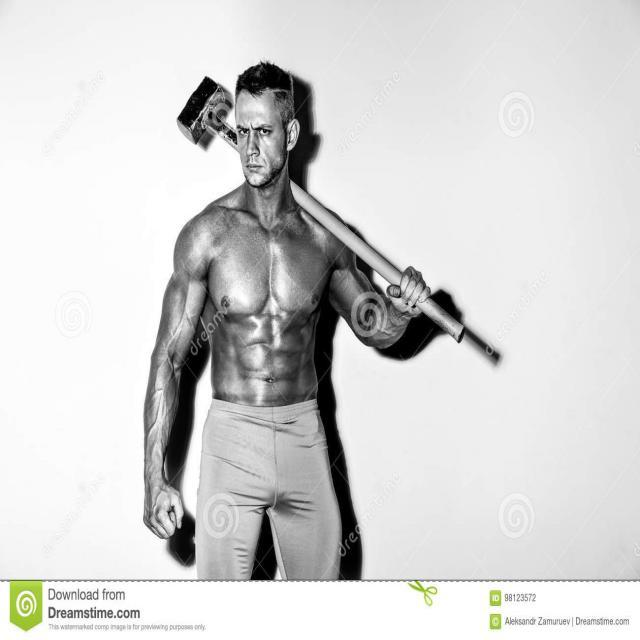hammer: (172, 74, 468, 363)
